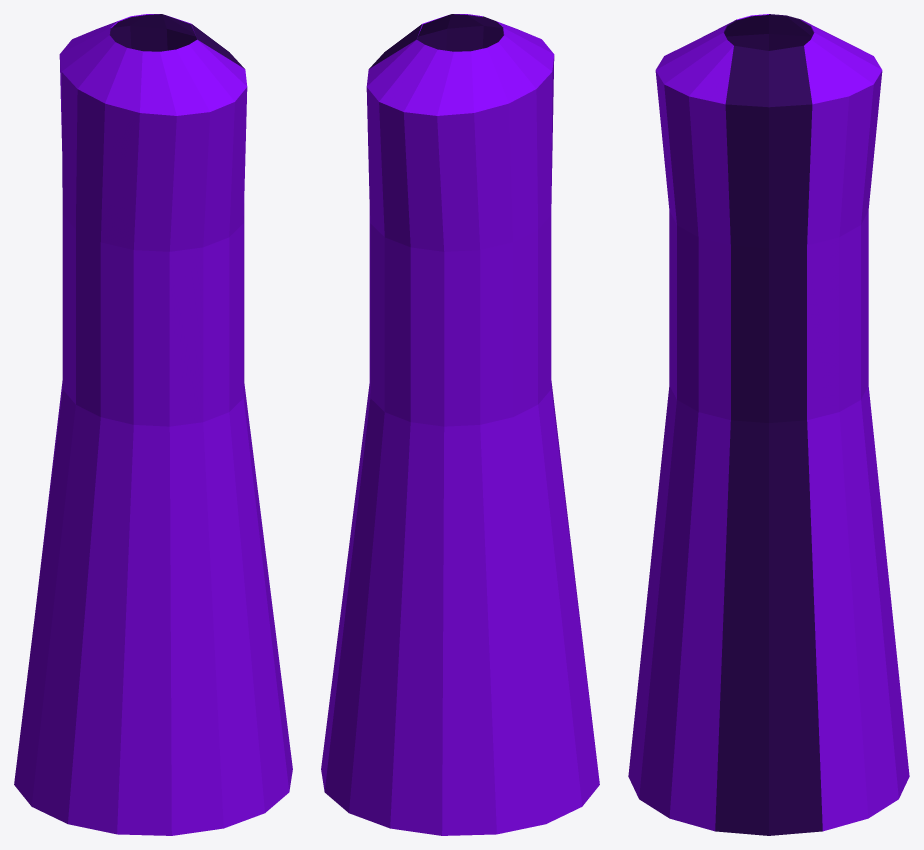
The model's file is Severus_hood.fbx.
The picture shows the model from 3 angles, left to right: view 1: azimuth 30°, elevation 25°; view 2: azimuth 150°, elevation 25°; view 3: azimuth 270°, elevation 25°; orthographic projection.
Parts seen in each view (by area): view 1: Cylinder; view 2: Cylinder; view 3: Cylinder.
Part boxes in pixels (x1,y1,x2,y2): Cylinder: (14, 14, 292, 835); Cylinder: (321, 14, 599, 835); Cylinder: (628, 14, 909, 835).
Size of the model in its own units: 300 by 876 by 300.
